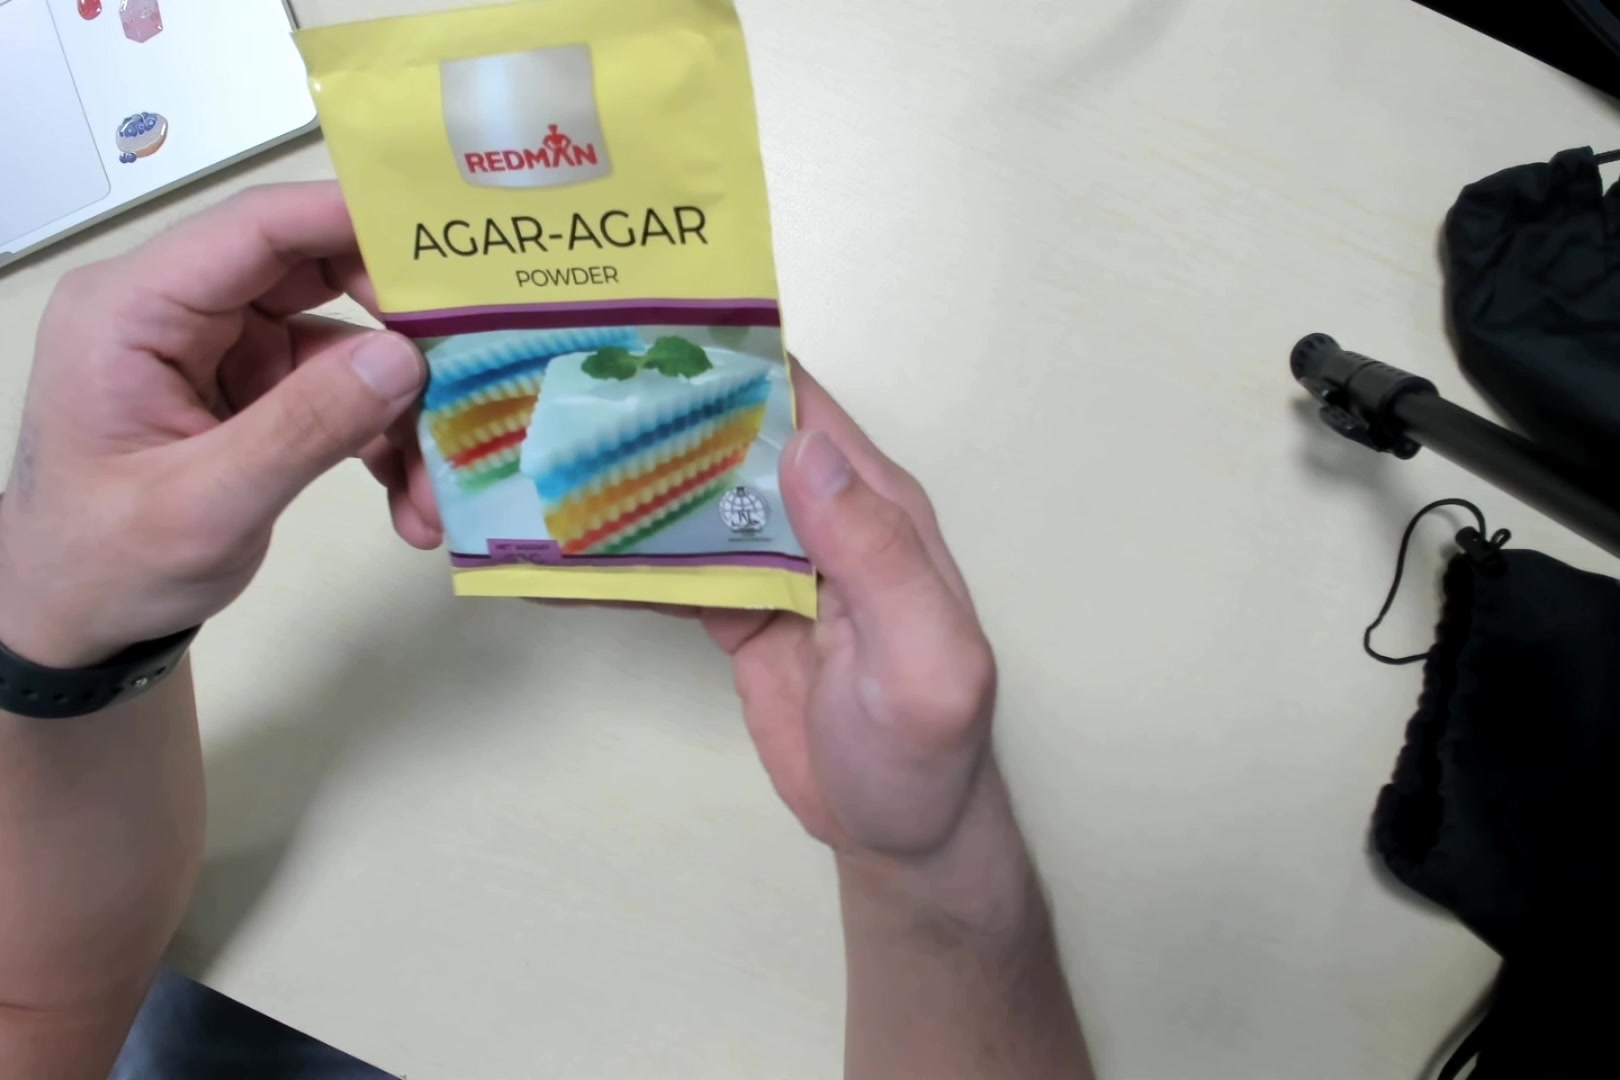OtherBakingNeeds_0-99g_Halal_NonHealthy: (312, 1, 818, 626)
